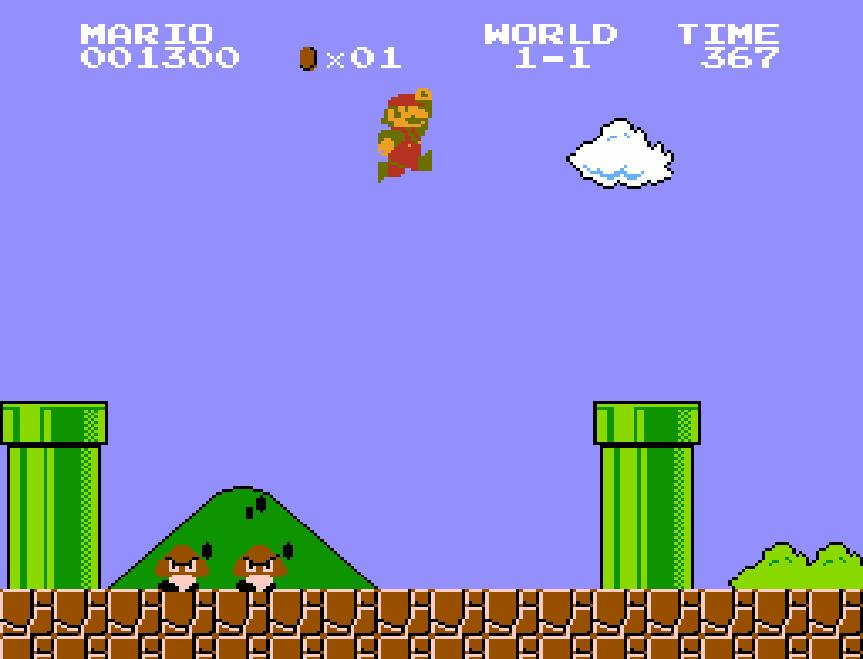big_mario: (376, 86, 434, 184)
